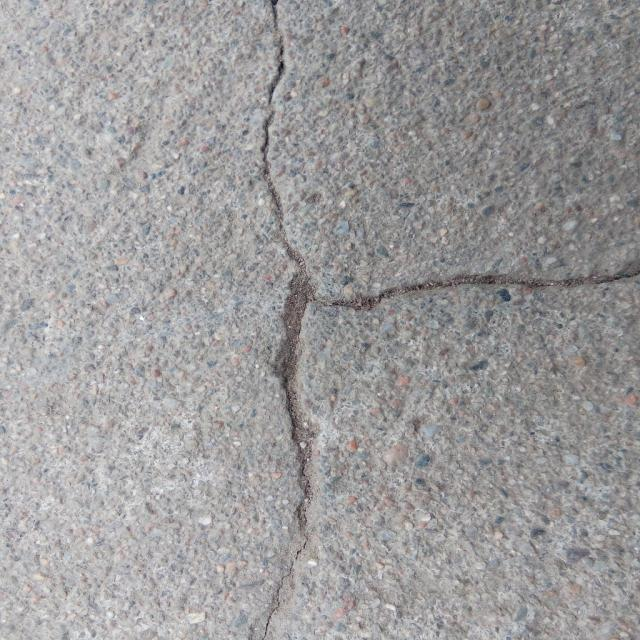cracks: (240, 1, 323, 637), (288, 252, 640, 324)
